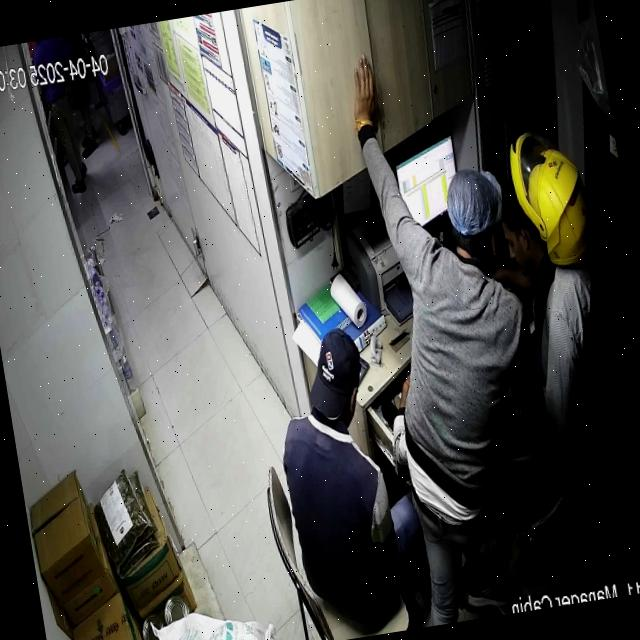helmet: (511, 131, 594, 267)
no_helmet: (447, 169, 504, 274), (310, 329, 359, 427)
